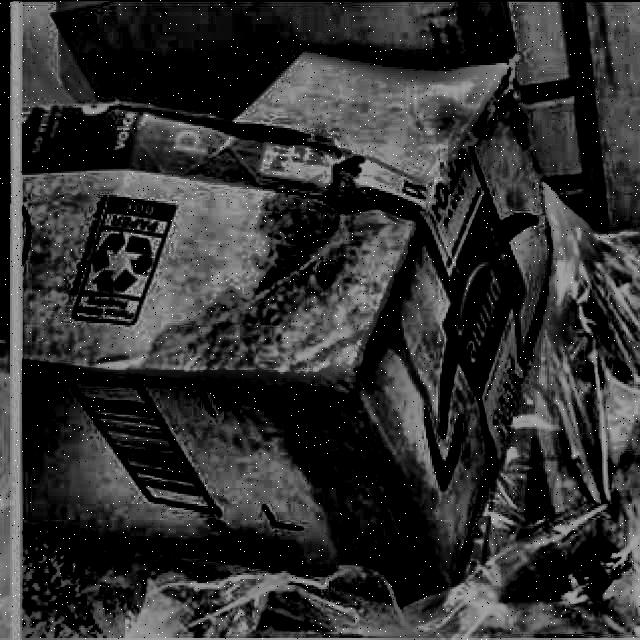box: (17, 0, 568, 619)
wet: (202, 210, 476, 579)
